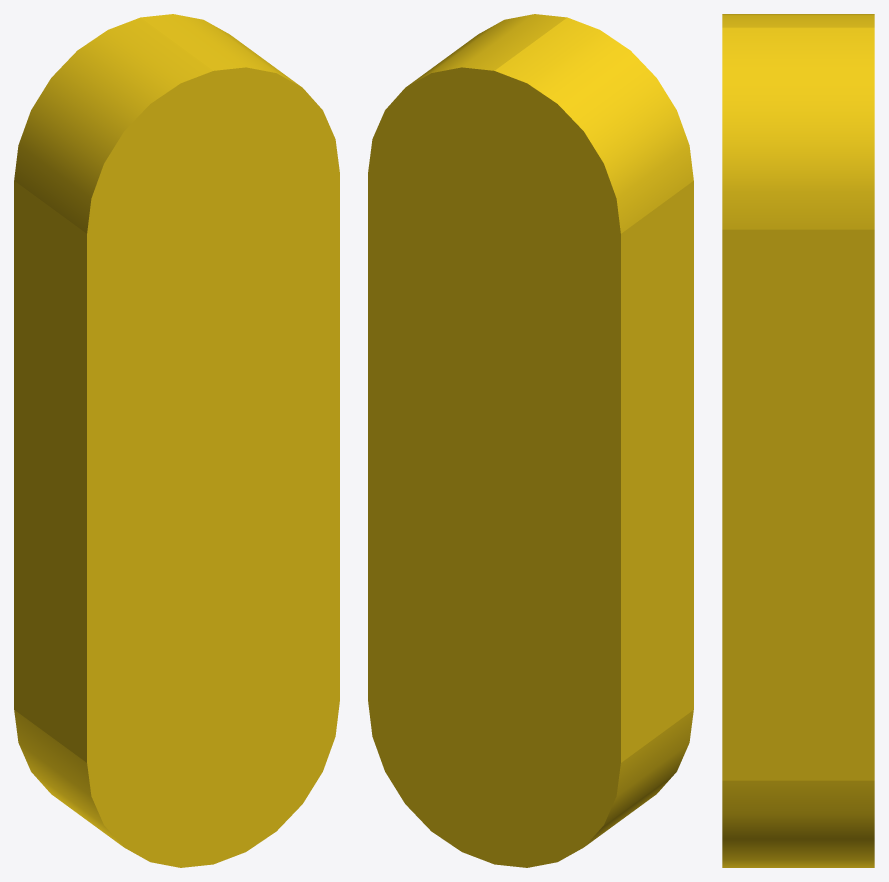
File: Twinkle.glb
3 views of the same model, side by side, from view 1: azimuth 30°, elevation 25°; view 2: azimuth 150°, elevation 25°; view 3: azimuth 270°, elevation 25° (orthographic). The views are drawn at different scales.
Visible parts, largest first — view 1: generated(Clone); view 2: generated(Clone); view 3: generated(Clone).
Boxes of the visible parts, left/top/right/bottom form: generated(Clone): left=14, top=14, right=339, bottom=867; generated(Clone): left=368, top=14, right=693, bottom=867; generated(Clone): left=722, top=14, right=874, bottom=867.
Bounding box in the file's own units: 2 × 6 × 1.
